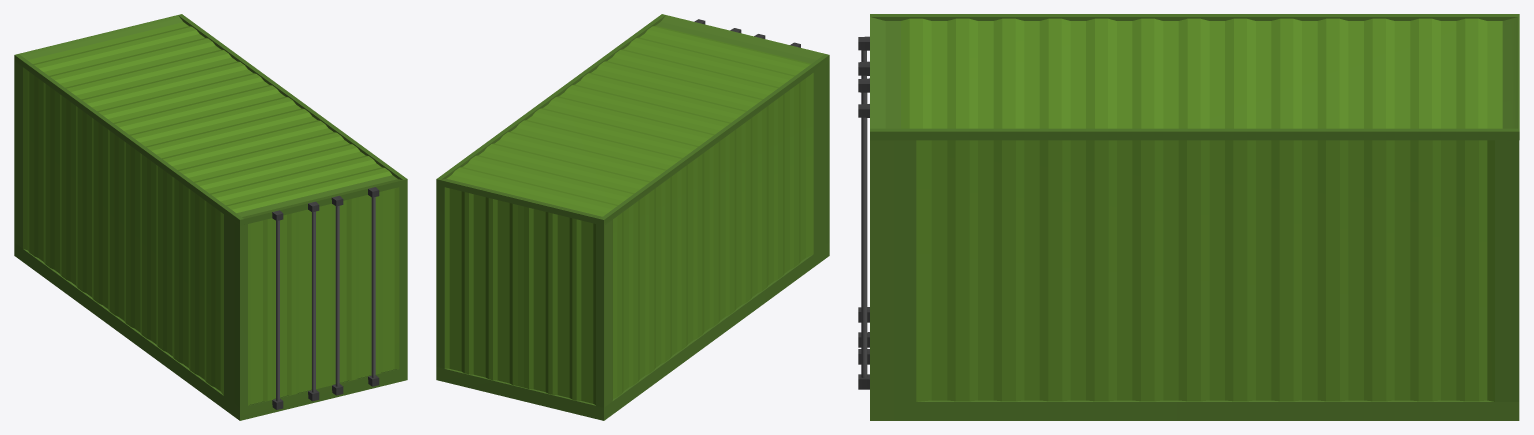
Rendered from Small Green Shipping Container Closed.fbx.
3 renders of one model, left to right at view 1: azimuth 30°, elevation 25°; view 2: azimuth 150°, elevation 25°; view 3: azimuth 270°, elevation 25°, orthographic. The views are drawn at different scales.
Parts seen in each view (by area): view 1: Large Green Shipping Container Closed; view 2: Large Green Shipping Container Closed; view 3: Large Green Shipping Container Closed.
Part boxes in pixels (left/top/right/bottom): Large Green Shipping Container Closed: left=14, top=14, right=407, bottom=420; Large Green Shipping Container Closed: left=436, top=14, right=829, bottom=420; Large Green Shipping Container Closed: left=858, top=14, right=1519, bottom=420.
Size of the model in its own units: 1052 by 2179 by 918.
1 material, 1 textured.
